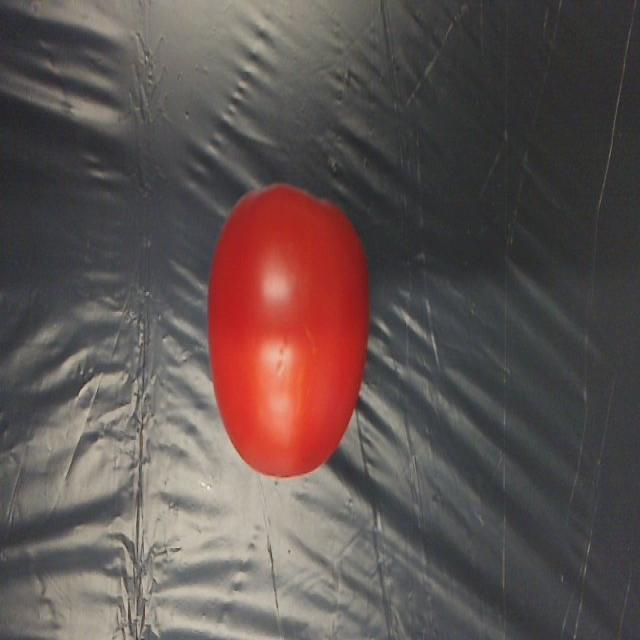kirmizi: (209, 164, 370, 491)
